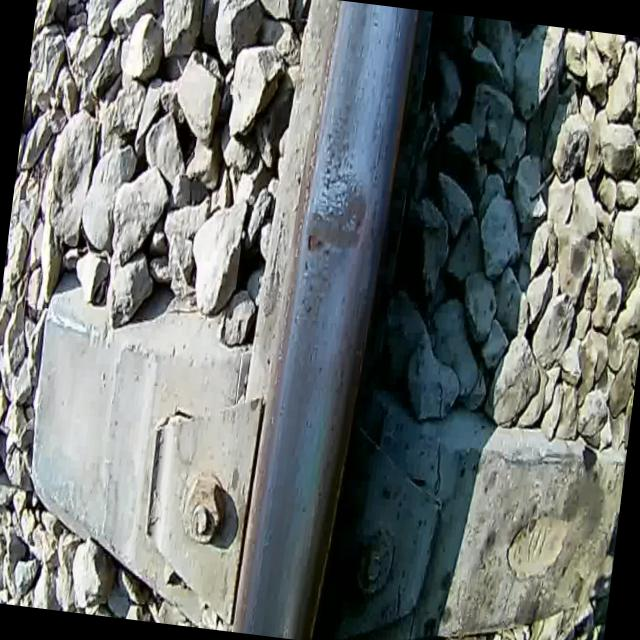Squats: (296, 177, 374, 269)
